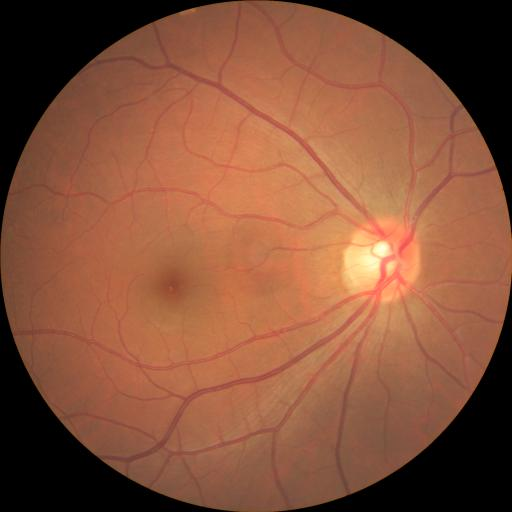Optic Cup: (367, 242, 396, 273)
Optic Disc: (343, 217, 420, 303)
